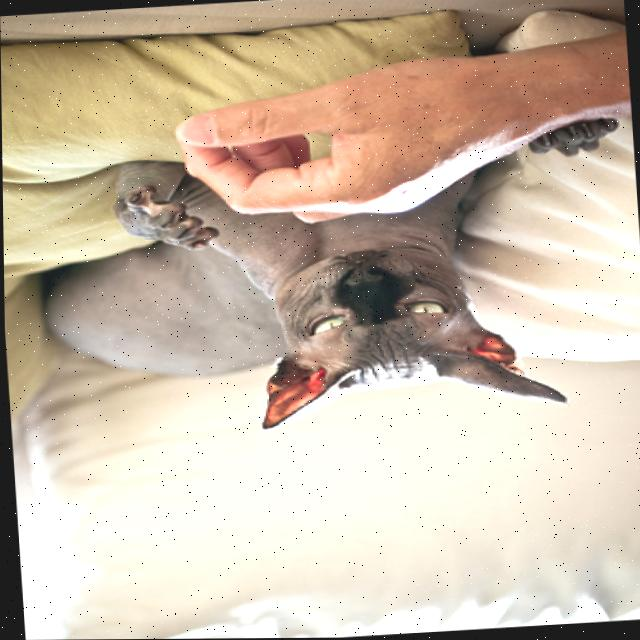Sphynx: (25, 114, 640, 448)
